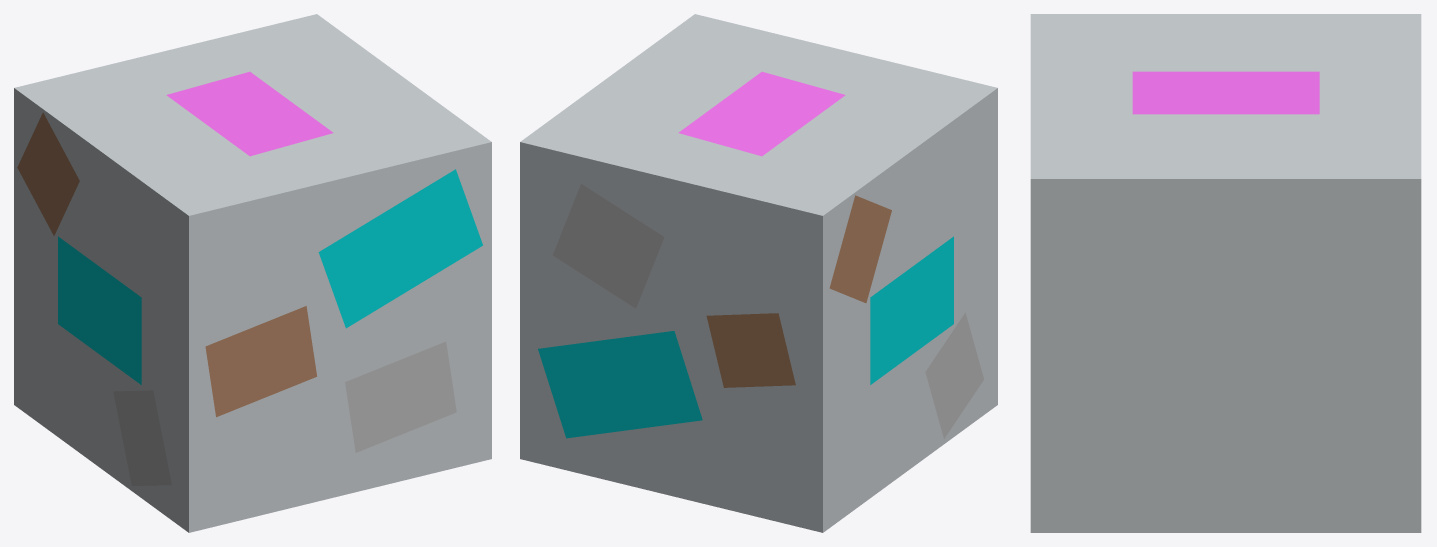
The model's file is helmet.glb.
3 views of the same model, side by side, from view 1: azimuth 30°, elevation 25°; view 2: azimuth 150°, elevation 25°; view 3: azimuth 270°, elevation 25° (orthographic). The views are drawn at different scales.
Visible parts, largest first — view 1: Helmet, 1_SKI, 2_SKI, 3_SKI, 1_KAYAK, 0_LIKE_A_BOSS, 2_KAYAK, 3_KAYAK; view 2: Helmet, 1_WINGSUIT, 2_WINGSUIT, 1_KAYAK, 0_LIKE_A_BOSS, 3_WINGSUIT, 3_KAYAK, 2_KAYAK; view 3: Helmet, 0_LIKE_A_BOSS.
Boxes of the visible parts, x1,y1,x2,y2 form: Helmet: (14,14,491,532); 1_SKI: (318,169,482,328); 2_SKI: (345,341,456,452); 3_SKI: (205,306,316,417); 1_KAYAK: (58,236,141,384); 0_LIKE_A_BOSS: (166,71,333,156); 2_KAYAK: (113,390,171,485); 3_KAYAK: (17,112,79,235); Helmet: (520,14,997,532); 1_WINGSUIT: (538,331,702,438); 2_WINGSUIT: (552,184,664,308); 1_KAYAK: (870,236,953,384); 0_LIKE_A_BOSS: (678,71,845,156); 3_WINGSUIT: (706,313,795,387); 3_KAYAK: (829,195,891,302); 2_KAYAK: (925,312,983,438); Helmet: (1030,14,1421,532); 0_LIKE_A_BOSS: (1132,71,1319,114).
Size of the model in its own units: 2.01 by 2.02 by 2.03.
